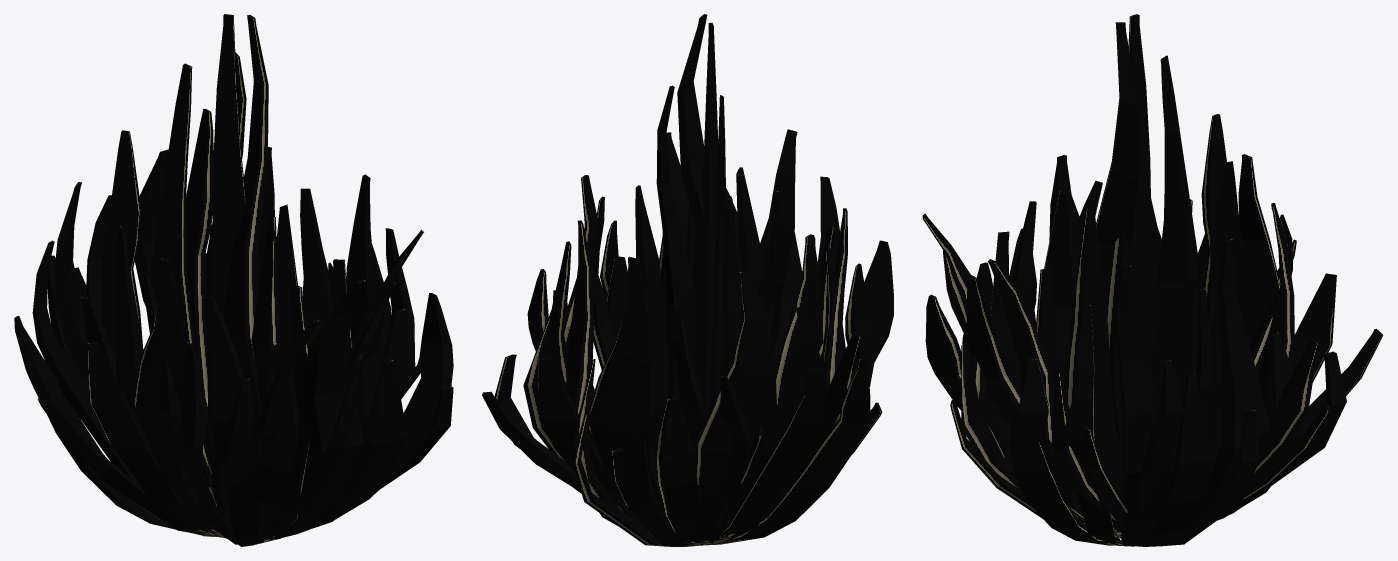
Rendered from grass.fbx.
3 renders of one model, left to right at view 1: azimuth 30°, elevation 25°; view 2: azimuth 150°, elevation 25°; view 3: azimuth 270°, elevation 25°, orthographic. The views are drawn at different scales.
Parts seen in each view (by area): view 1: Cube.001, Cube.003; view 2: Cube.001, Cube.003; view 3: Cube.003, Cube.001.
Boxes of the visible parts, x1=… form: Cube.001: x1=14, y1=14, x2=423, y2=540; Cube.003: x1=47, y1=15, x2=453, y2=546; Cube.001: x1=527, y1=22, x2=882, y2=546; Cube.003: x1=482, y1=14, x2=893, y2=530; Cube.003: x1=922, y1=22, x2=1330, y2=546; Cube.001: x1=925, y1=14, x2=1383, y2=531.
Bounding box in the file's own units: 1412 × 1891 × 1547.
